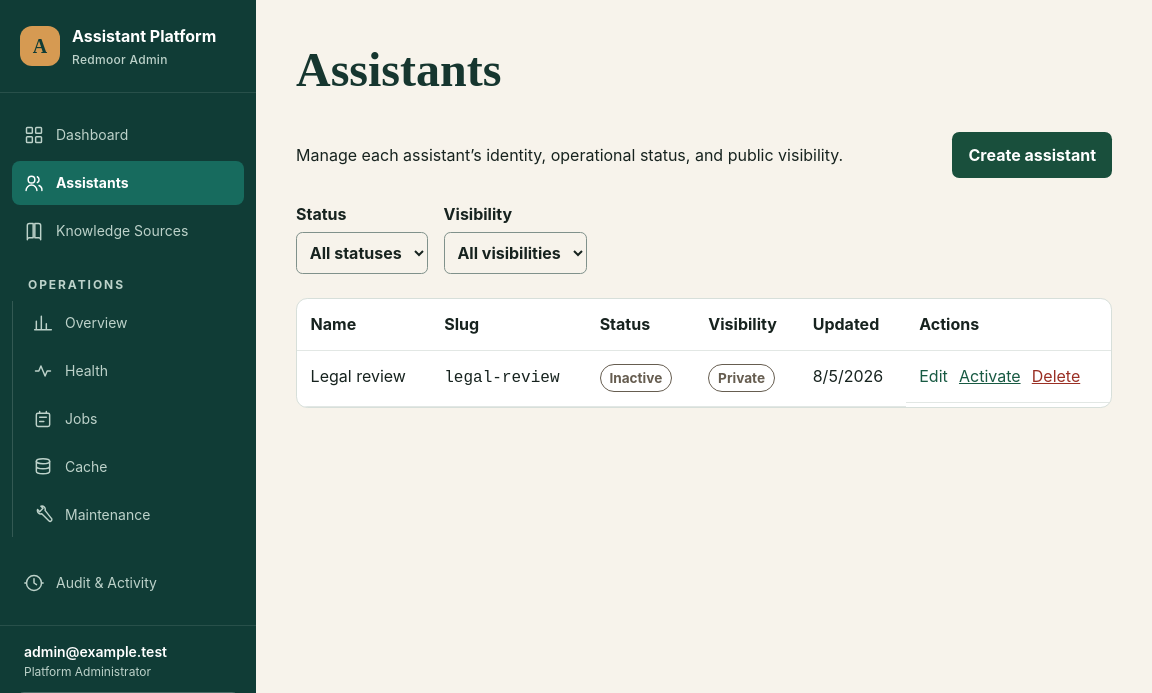
Test: administrator application workflows › maps protected and already-deleted assistants to their contractual outcomes
Click the button with aria-label "Delete Legal review".
click(1056, 376)  # box [1032, 364, 1080, 388]
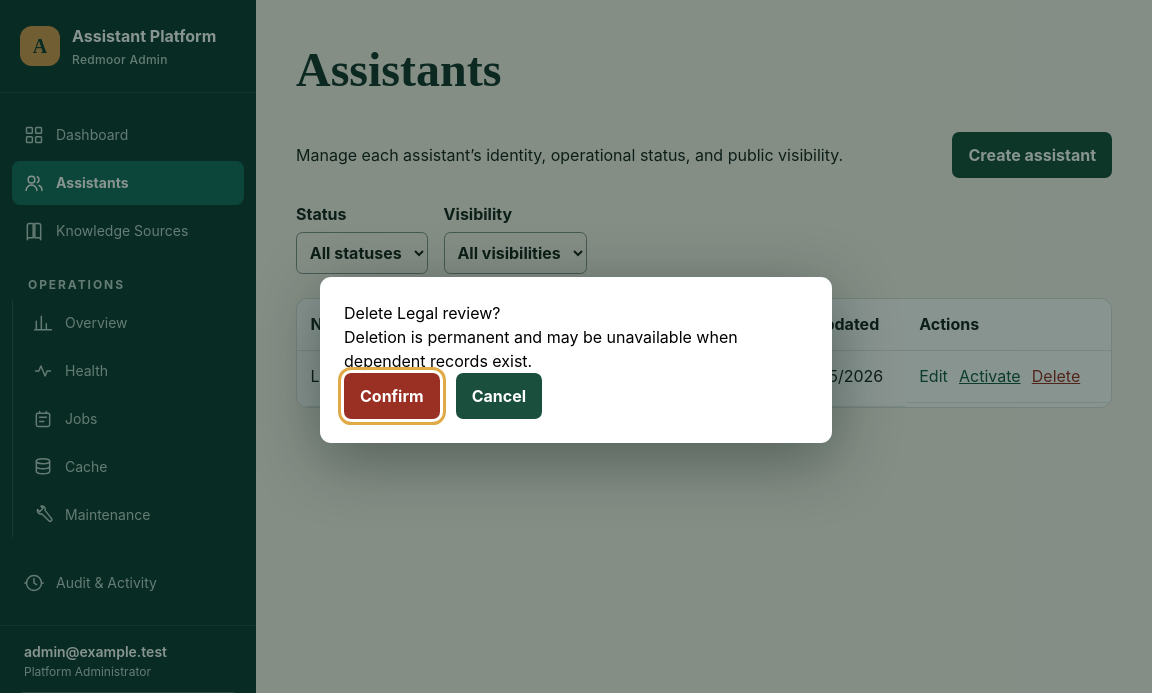
Click the button "Confirm".
click(392, 396)  # box [344, 373, 440, 419]
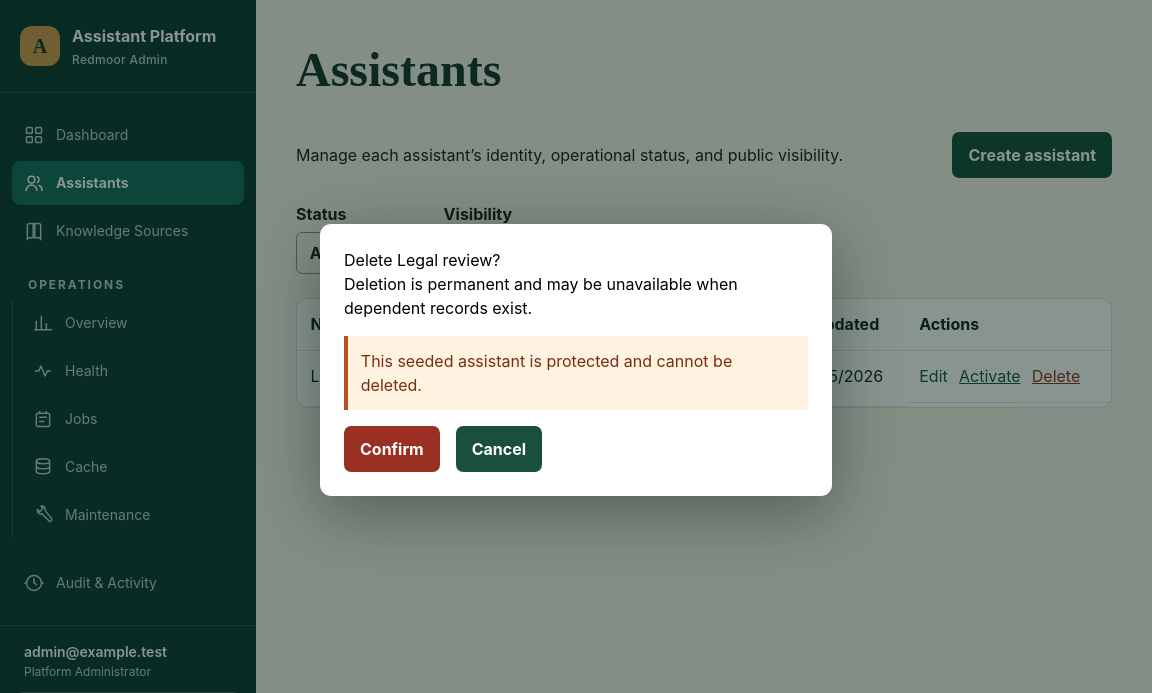
Expected: the message shows "seeded assistant is protected", [361, 351, 732, 395]
Click the button "Confirm".
click(392, 449)  # box [344, 426, 440, 472]
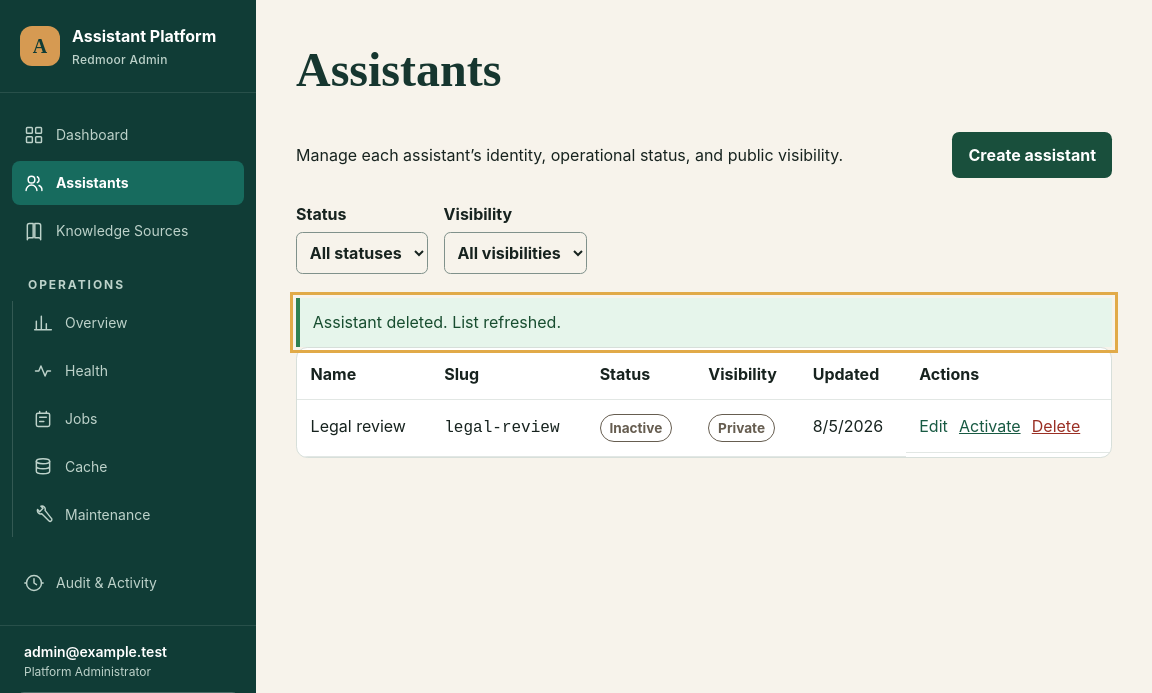
Expected: the message reads "Assistant deleted. List refreshed.", [313, 312, 561, 332]
